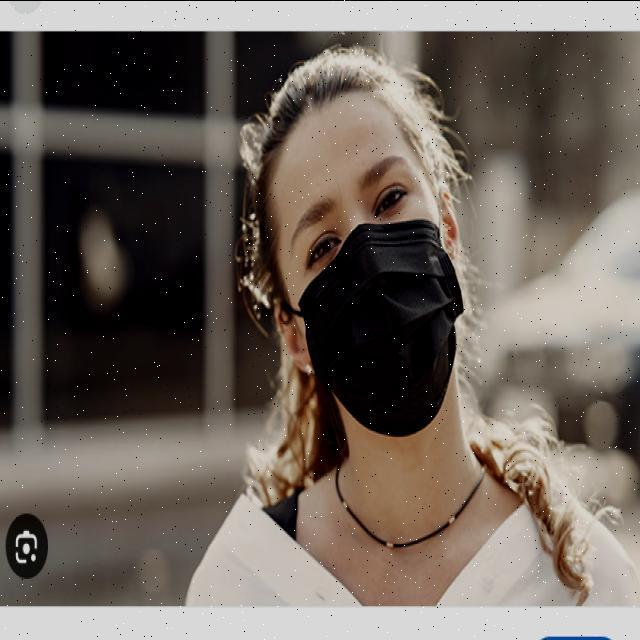face_mask: (267, 89, 451, 383)
